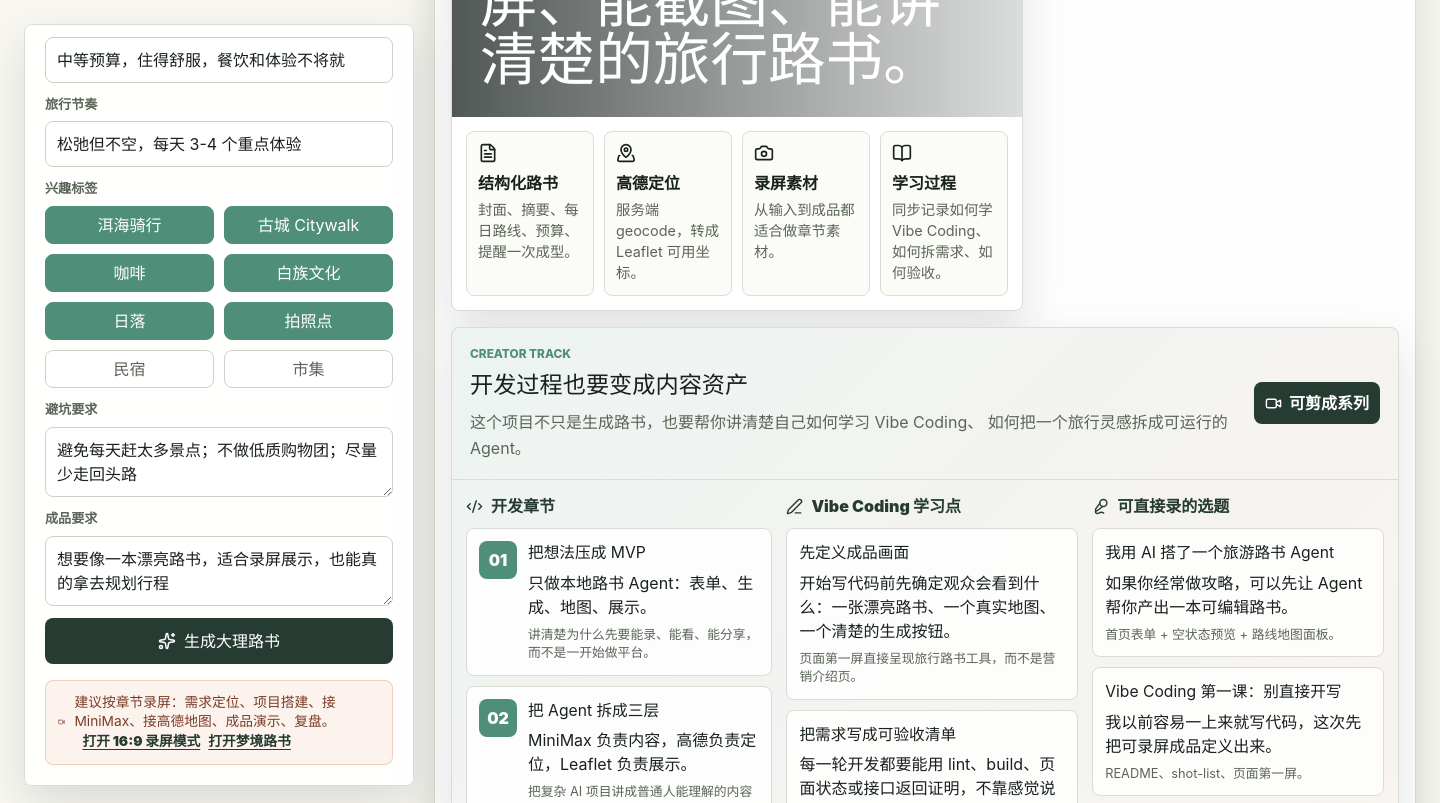
Scenario: TravelAgentApp a11y polish › exposes a form skeleton with four bars when the form is busy generating
(page scrolled)
Submit the form to enter the generating stage.
Click the button "生成大理路书": (219, 640) x1=45 y1=618 x2=393 y2=664
(page scrolled)
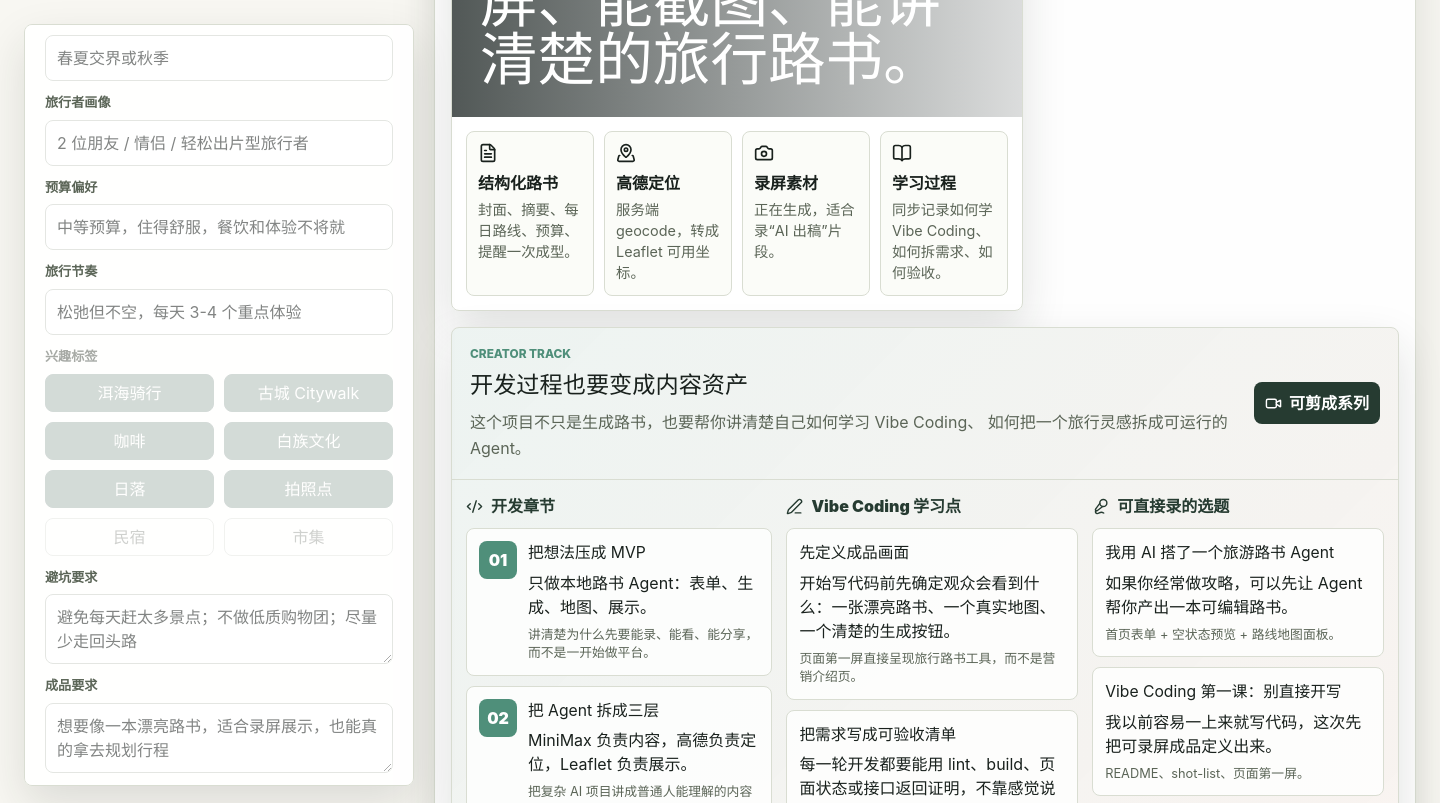
Expected: the form with class "brief-form" has attribute aria-busy="true", x1=45 y1=24 x2=393 y2=786
Expected: the form with class "brief-form" has class "is-loading", x1=45 y1=24 x2=393 y2=786
